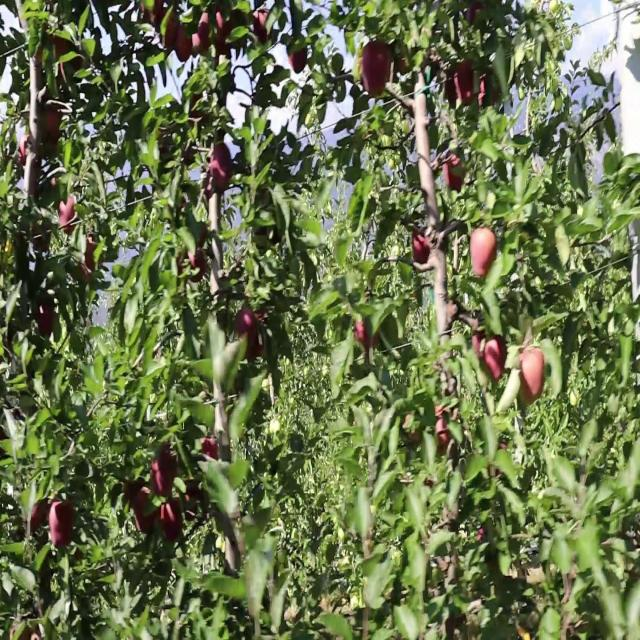apple: (360, 42, 393, 100), (236, 305, 266, 363), (520, 348, 546, 404), (152, 447, 180, 498), (208, 142, 234, 196), (176, 241, 208, 284), (184, 227, 208, 284), (472, 227, 499, 277), (456, 56, 482, 107), (52, 497, 77, 549), (36, 35, 71, 71), (212, 7, 236, 57), (136, 490, 159, 535), (484, 341, 508, 384), (160, 504, 184, 544), (444, 156, 467, 194), (480, 71, 501, 112), (356, 319, 380, 352), (196, 14, 214, 57), (436, 405, 454, 448), (252, 7, 272, 44), (124, 476, 147, 508), (36, 305, 57, 340), (44, 106, 63, 144), (288, 42, 309, 76), (412, 234, 432, 267), (60, 199, 78, 235), (84, 234, 97, 283), (144, 0, 167, 27), (436, 405, 453, 439), (176, 28, 192, 64), (404, 412, 422, 444), (164, 14, 179, 52), (472, 327, 488, 361), (444, 71, 458, 107), (436, 419, 453, 448), (20, 135, 35, 165), (200, 440, 220, 462), (32, 504, 47, 532), (444, 504, 460, 530), (468, 7, 487, 28), (396, 56, 410, 78), (476, 526, 488, 542)
